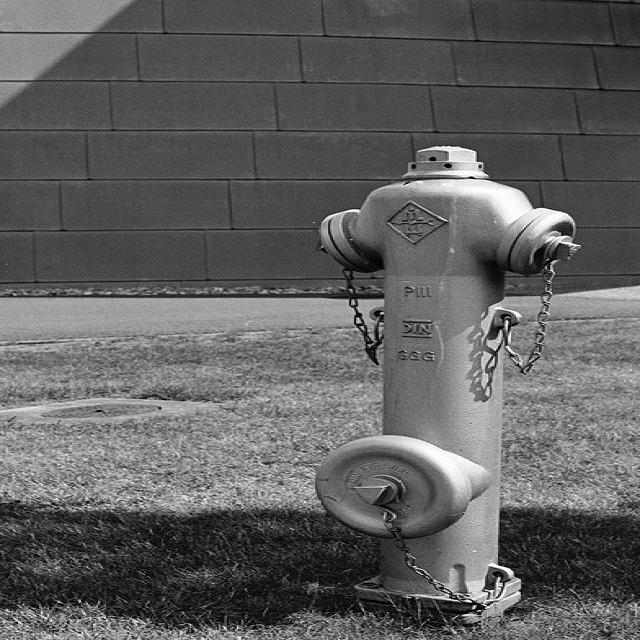fire_hydrant: (314, 139, 584, 622)
